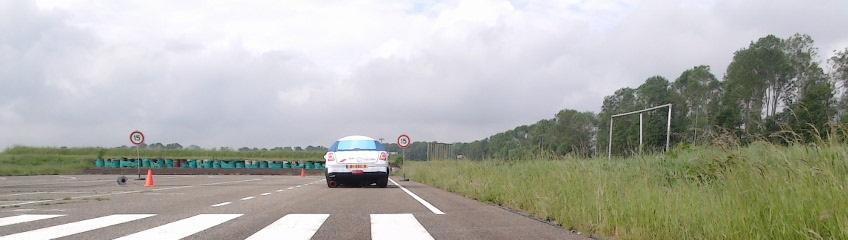Car: (325, 135, 389, 188)
Speed-limit-15km-h-: (129, 131, 144, 144), (397, 134, 410, 147)
